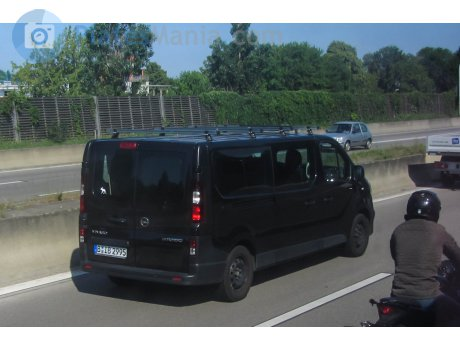License Plates: (95, 243, 124, 255)
